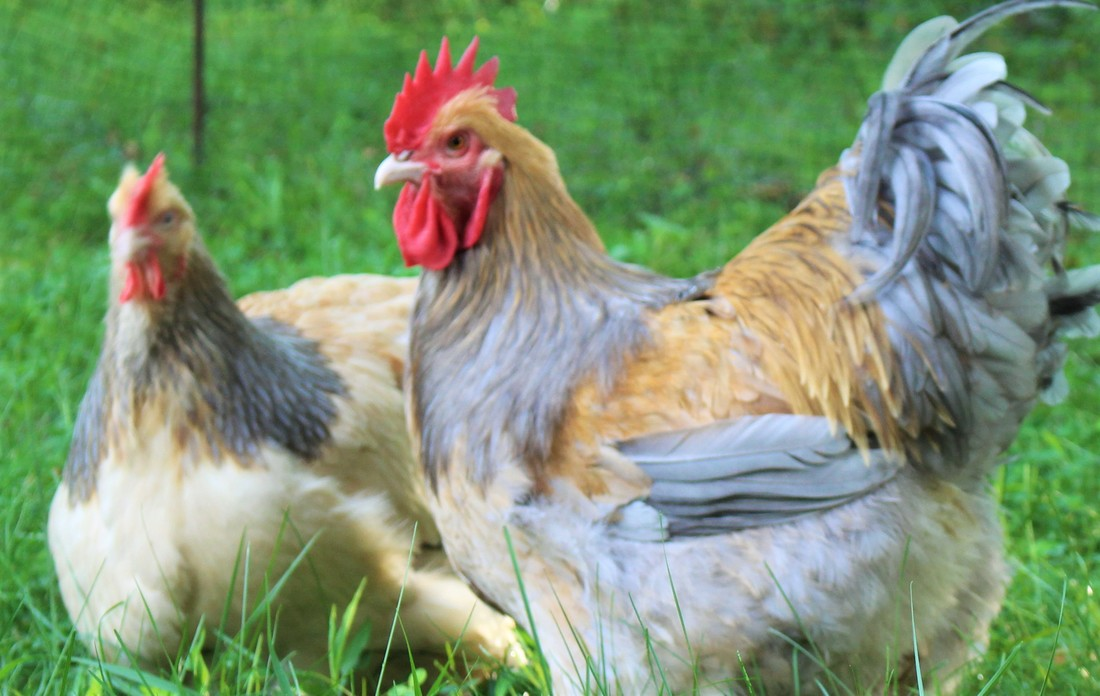buff: (363, 32, 990, 568), (46, 139, 375, 597)
